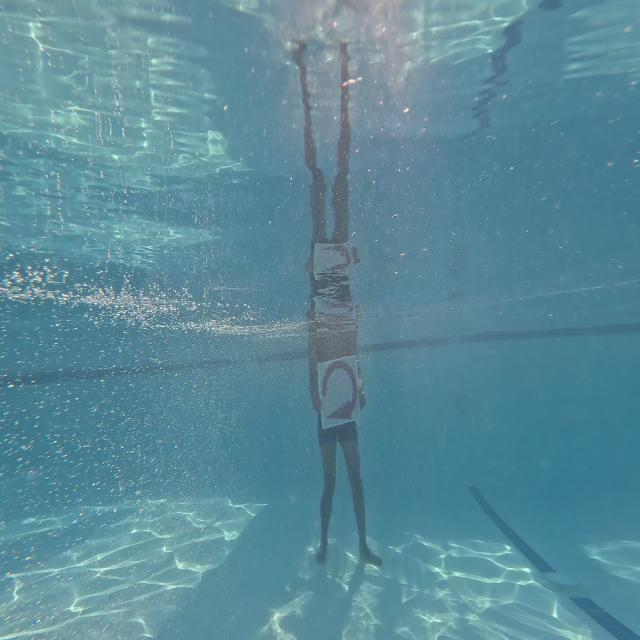red_side: (317, 356, 360, 426)
